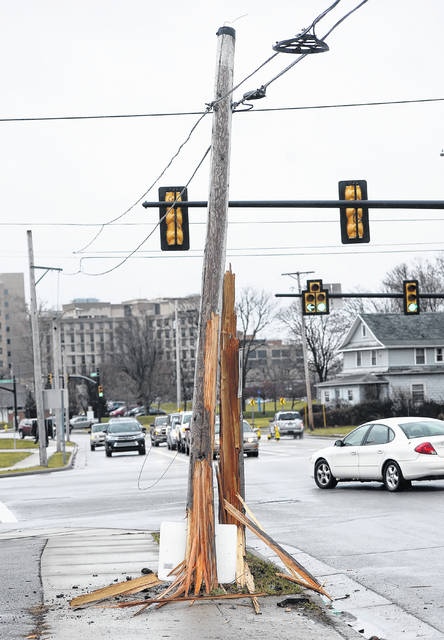car: (303, 407, 444, 487), (102, 413, 151, 463), (264, 408, 312, 442), (87, 423, 112, 448)
pole: (160, 15, 245, 609), (17, 223, 62, 472), (279, 268, 325, 434)
